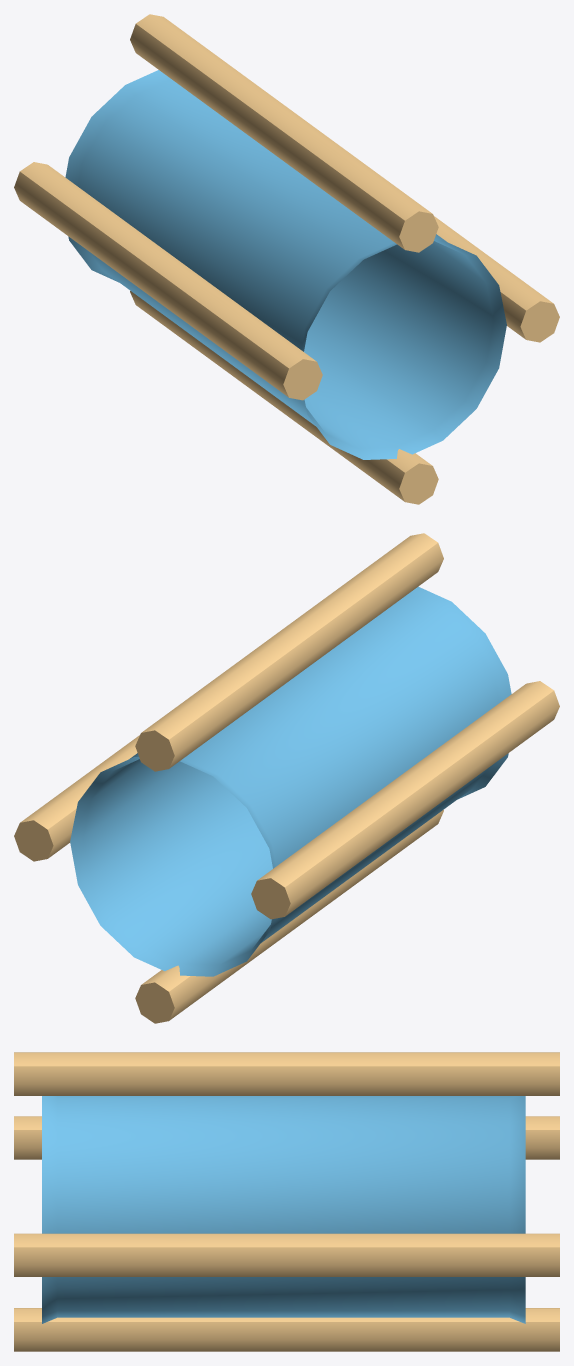
File: Gun_Whelder.fbx
3 views of the same model, one above another, from view 1: azimuth 30°, elevation 25°; view 2: azimuth 150°, elevation 25°; view 3: azimuth 270°, elevation 25° (orthographic).
Parts seen in each view (by area): view 1: Cube.006; view 2: Cube.006; view 3: Cube.006.
Boxes of the visible parts, left/top/right/bottom form: Cube.006: left=14, top=14, right=559, bottom=504; Cube.006: left=14, top=533, right=559, bottom=1023; Cube.006: left=14, top=1052, right=559, bottom=1351.
Size of the model in its own units: 13.66 by 13.84 by 23.02.
